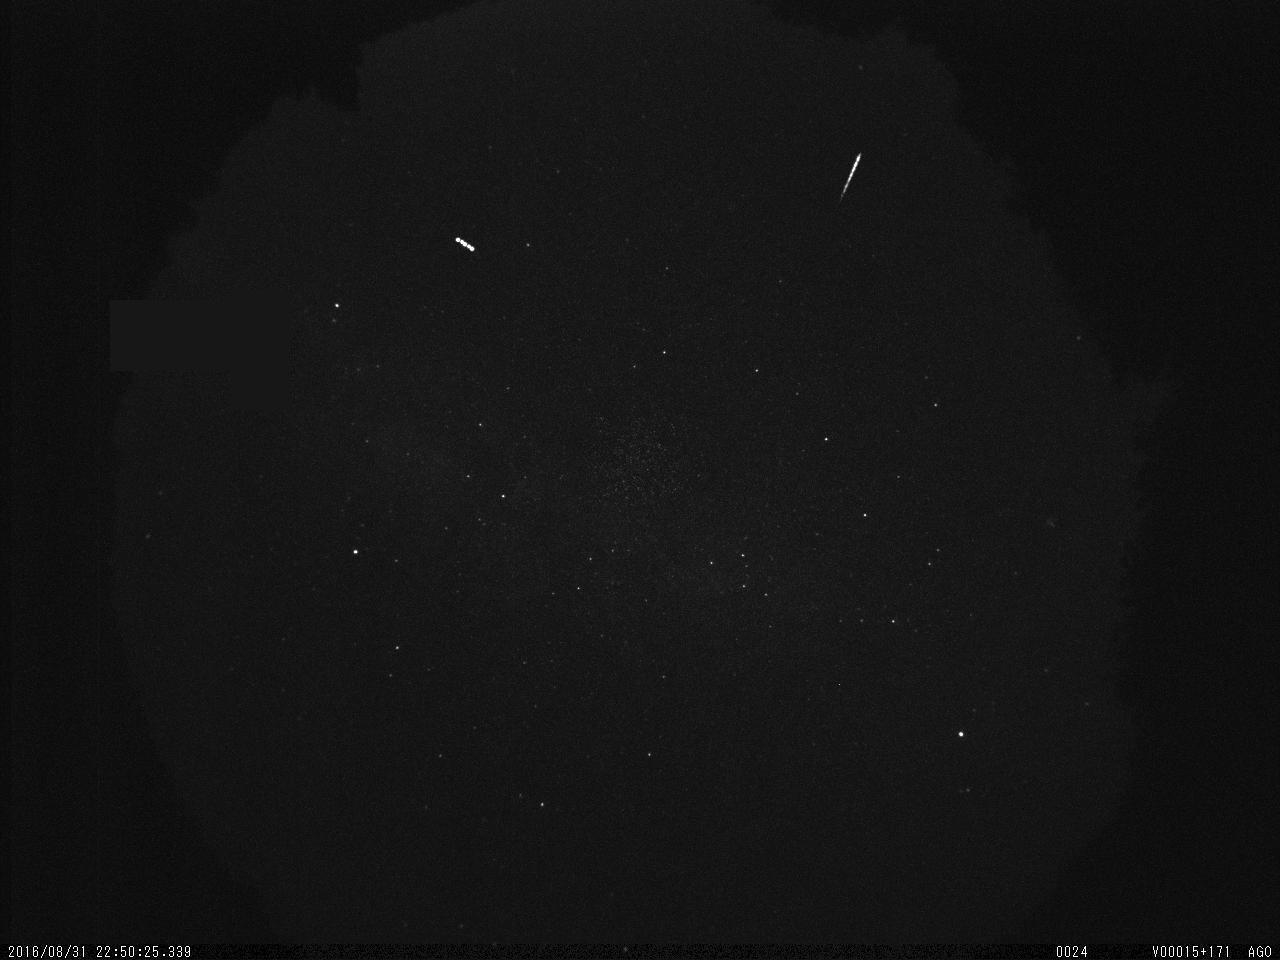Meteor: (836, 150, 863, 205)
